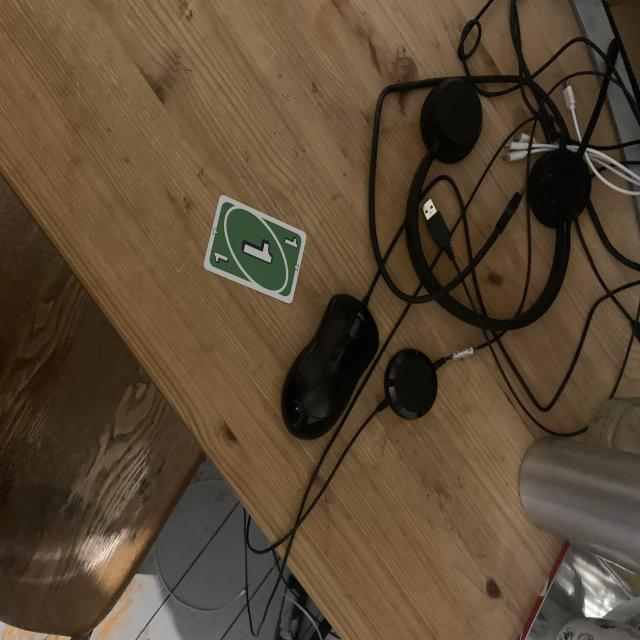lgreen-1: (210, 247, 232, 271)
